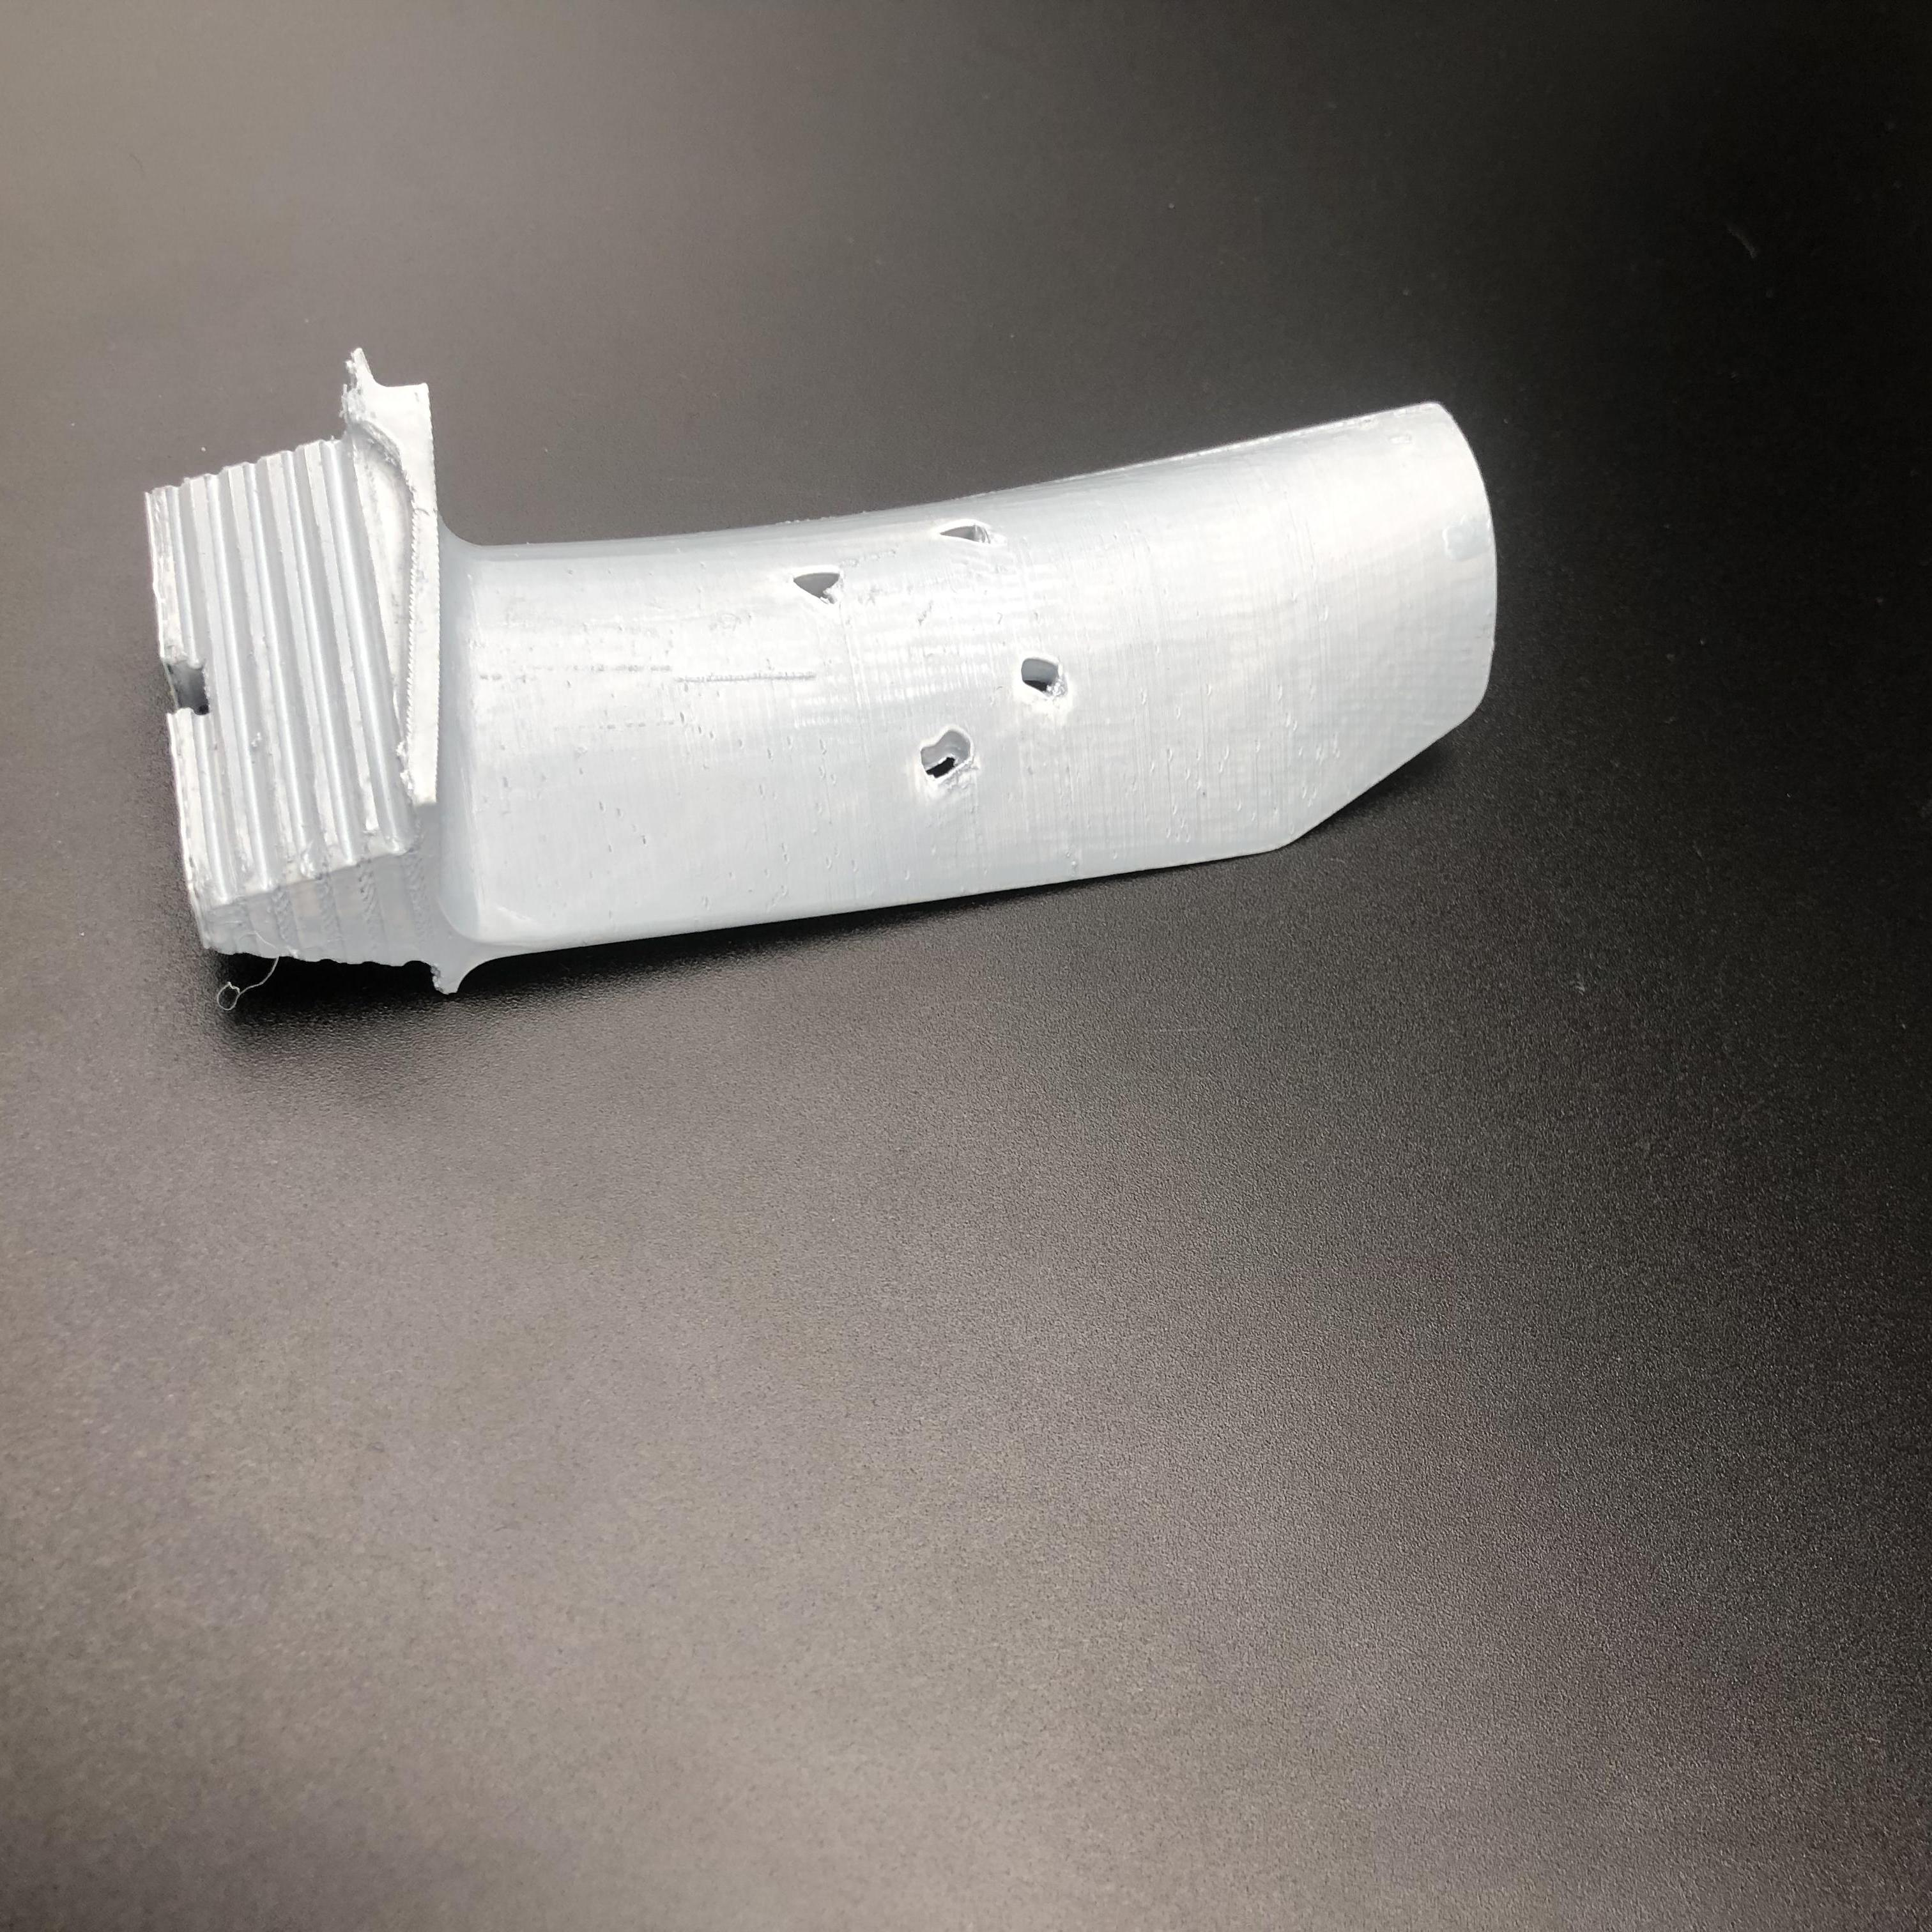breakdown: (918, 653, 1079, 794), (784, 511, 1021, 603)
